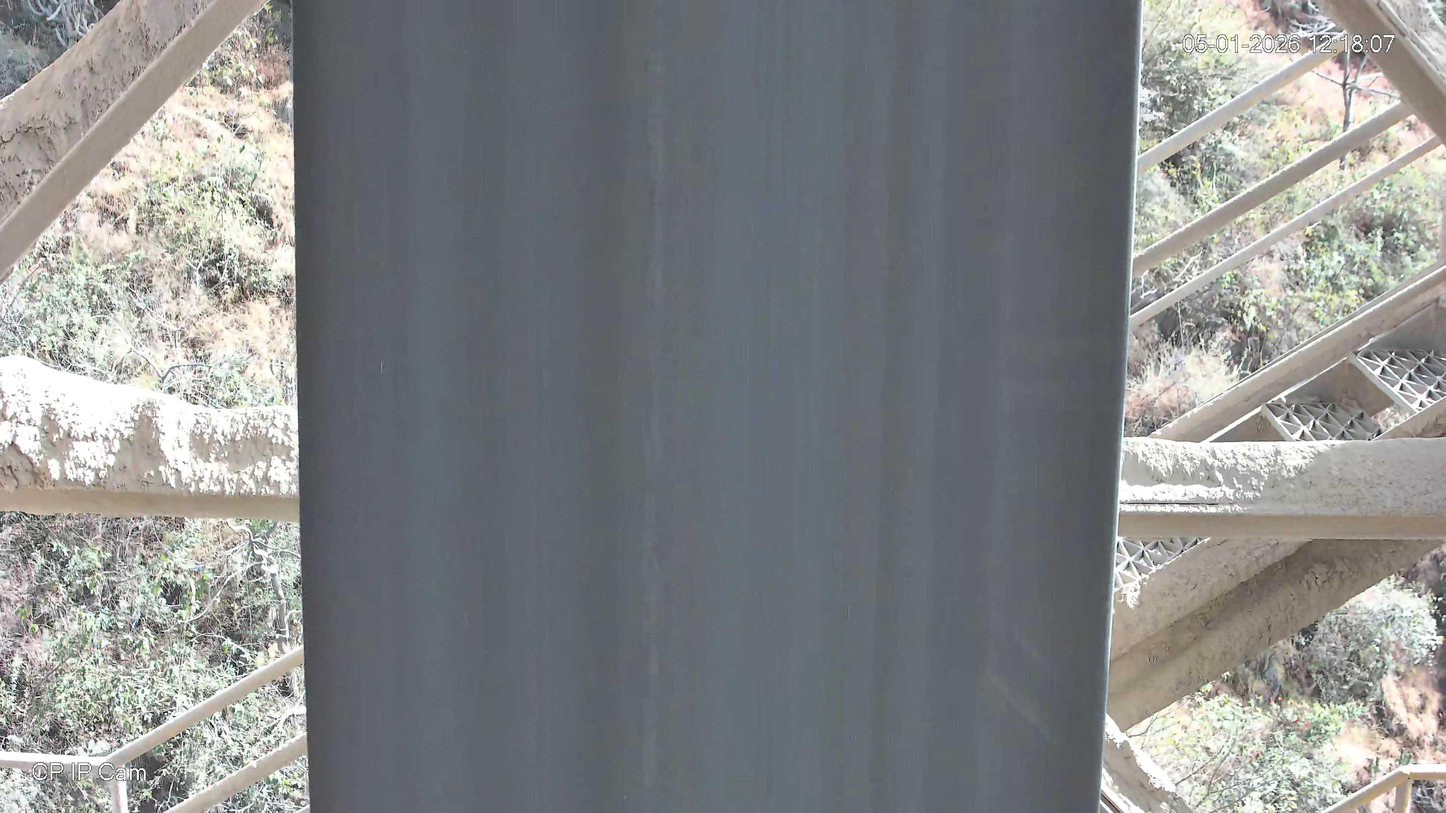belt_roi: (291, 0, 1142, 813)
